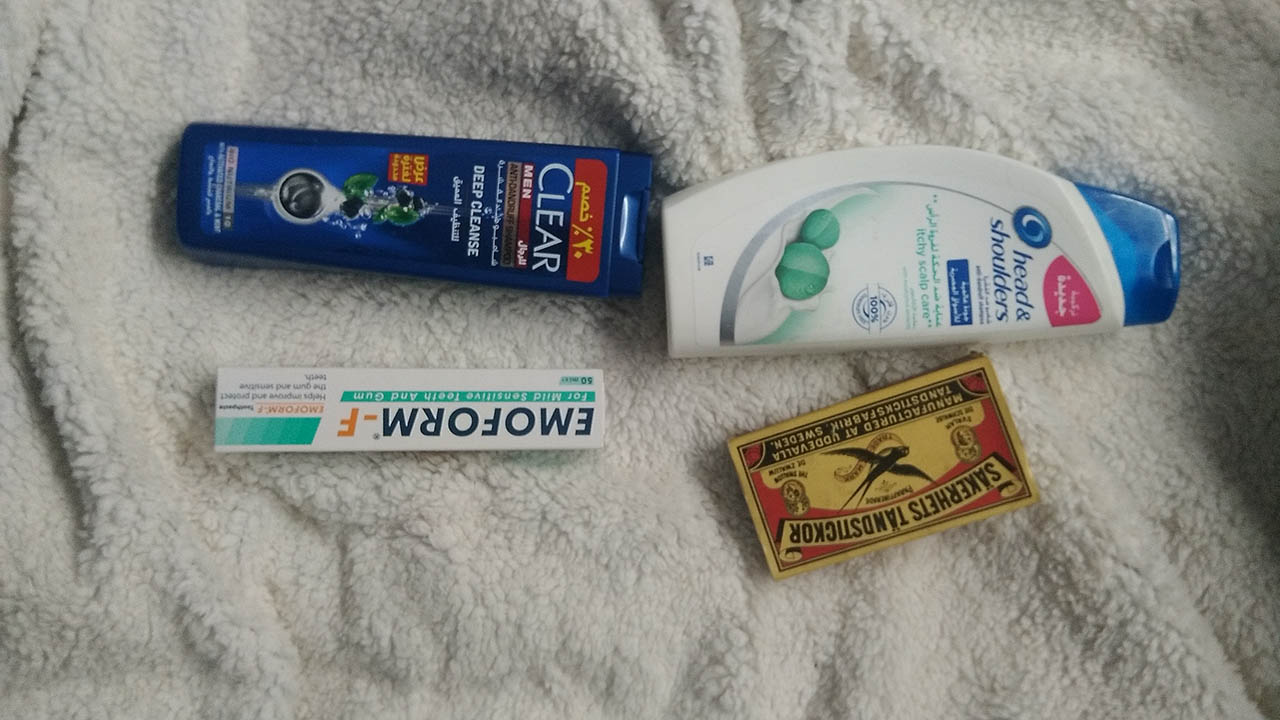Shampoo-Clear 4.7$: (160, 104, 651, 327)
Toothpaste-F 1.5$: (196, 359, 609, 457)
match-sticks .90$: (712, 354, 1049, 591)
shampoo-green 4.5$: (659, 158, 1191, 365)
